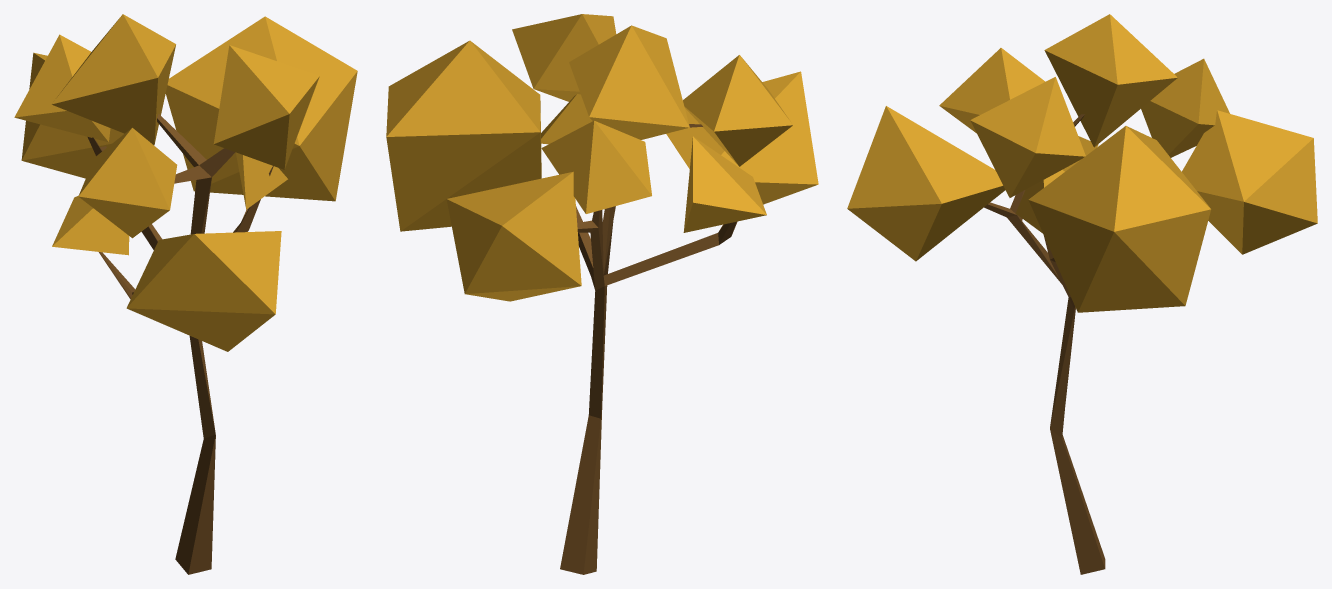
The model's file is tree3.fbx.
3 renders of one model, left to right at view 1: azimuth 30°, elevation 25°; view 2: azimuth 150°, elevation 25°; view 3: azimuth 270°, elevation 25°, orthographic. The views are drawn at different scales.
Parts seen in each view (by area): view 1: tree; view 2: tree; view 3: tree.
Part boxes in pixels (x1,y1,x2,y2): tree: [14, 14, 357, 574]; tree: [386, 14, 818, 574]; tree: [847, 14, 1317, 574].
Size of the model in its own units: 405 by 640 by 518.
